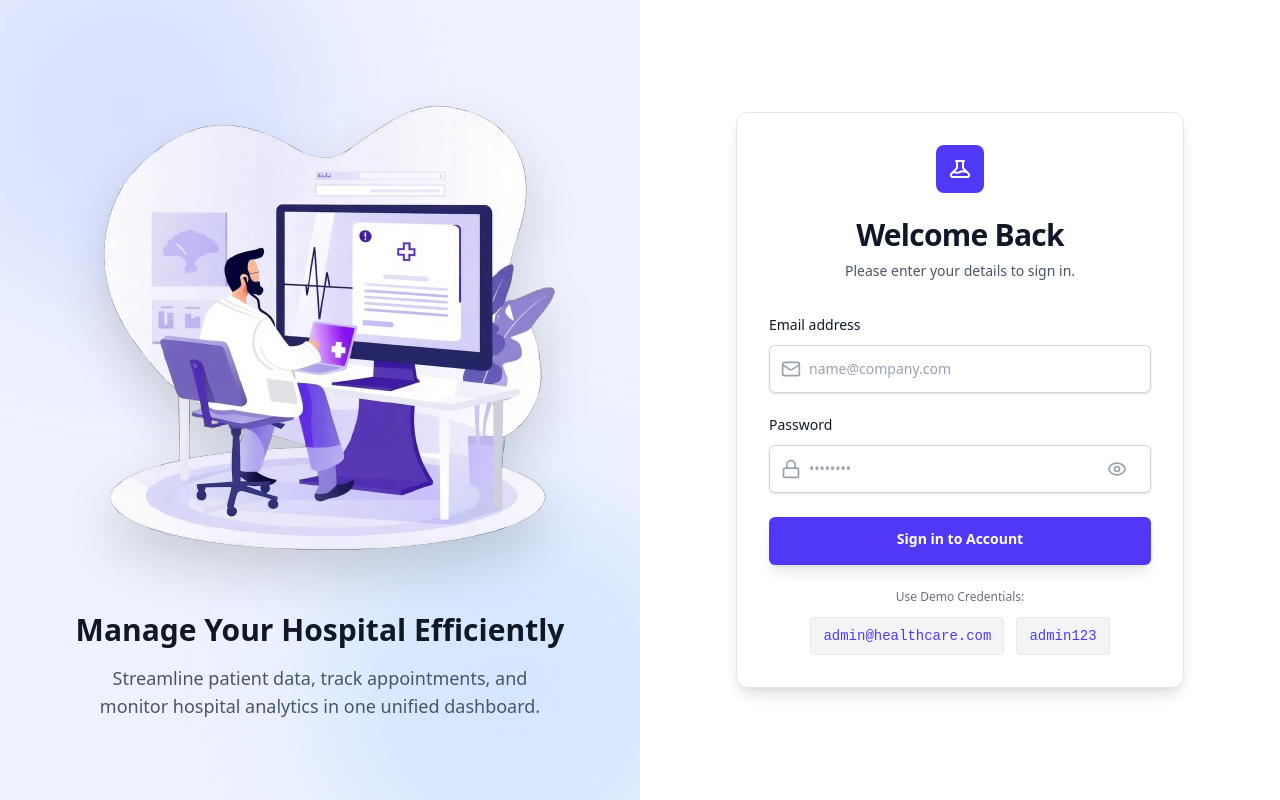
Test case: Login Page › Email Validation › shows error for empty email
This screenshot has width=1280, height=800.
Clear the field labelled "Email address": point(960, 369) top-left (769, 345), bottom-right (1151, 393)
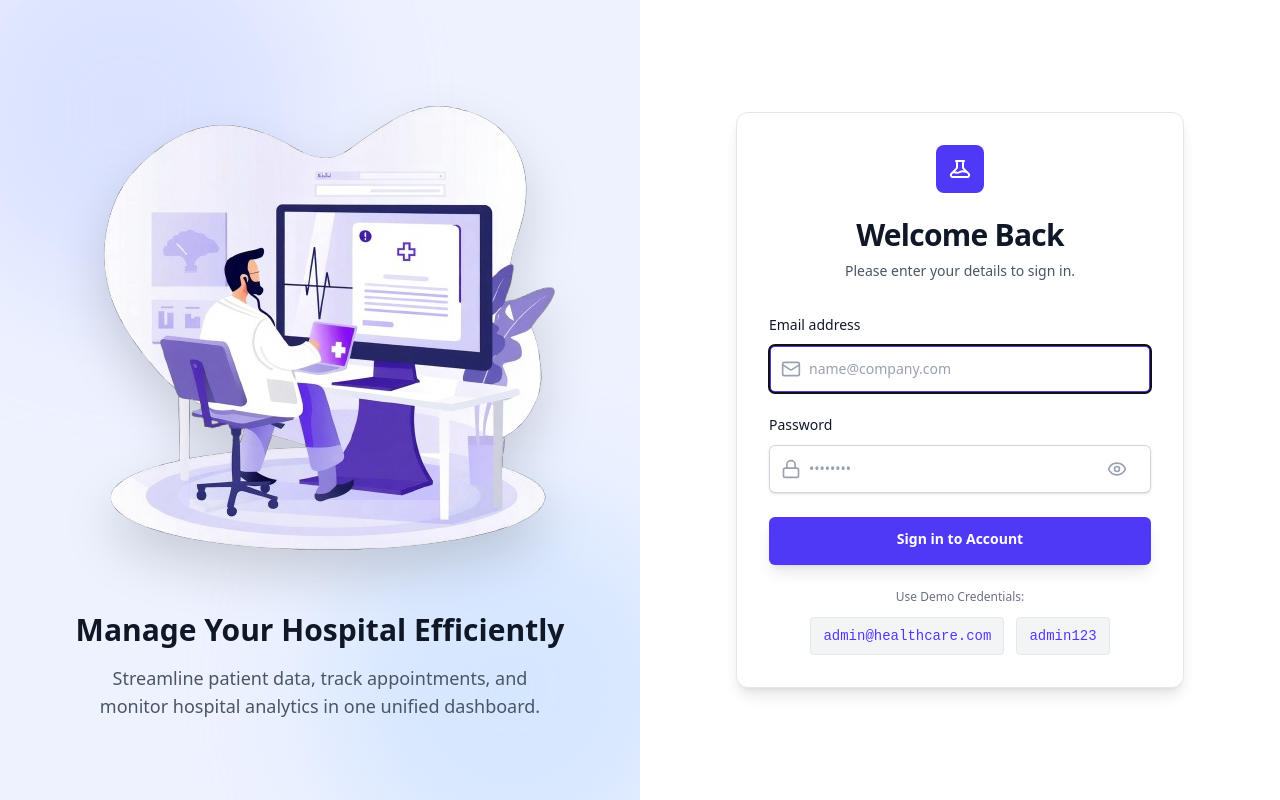
Leave the field labelled "Email address", box top-left (769, 345), bottom-right (1151, 393)
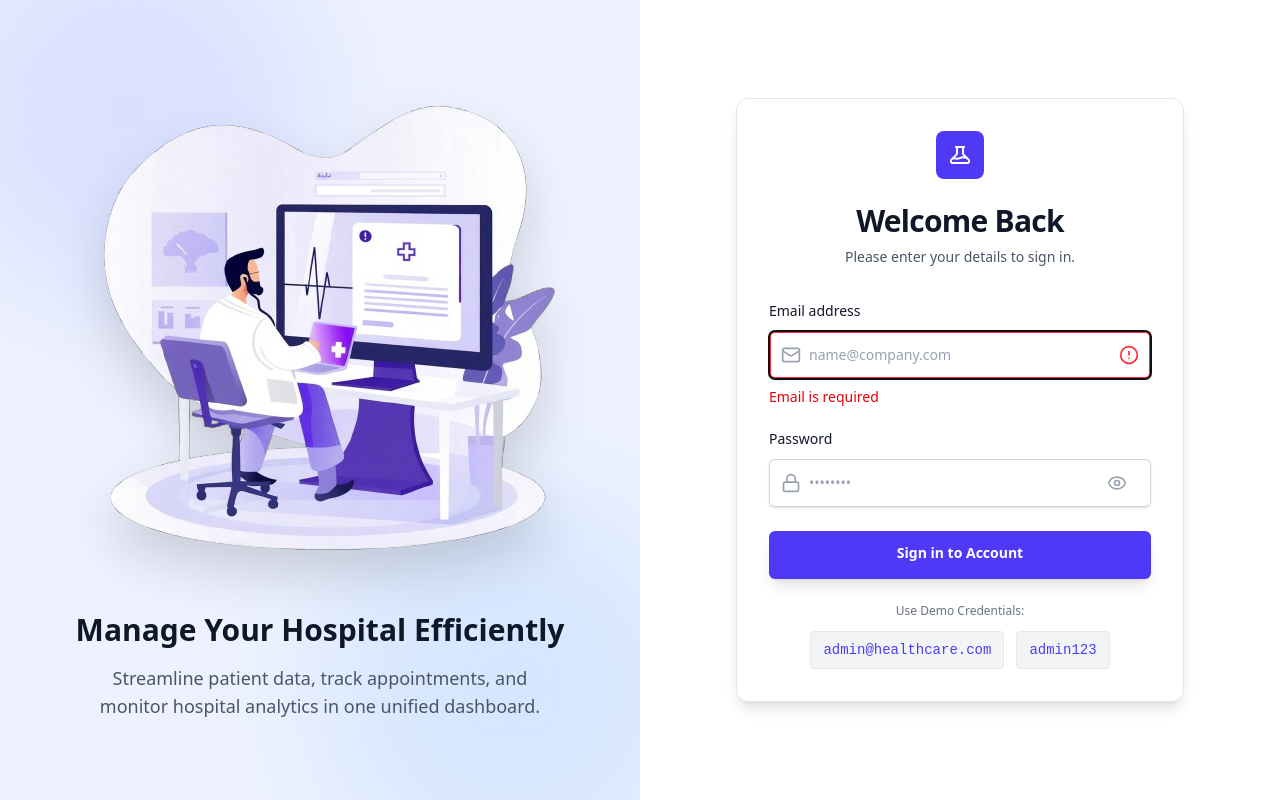
Now the text "Email is required" is shown, box top-left (769, 387), bottom-right (879, 406)
